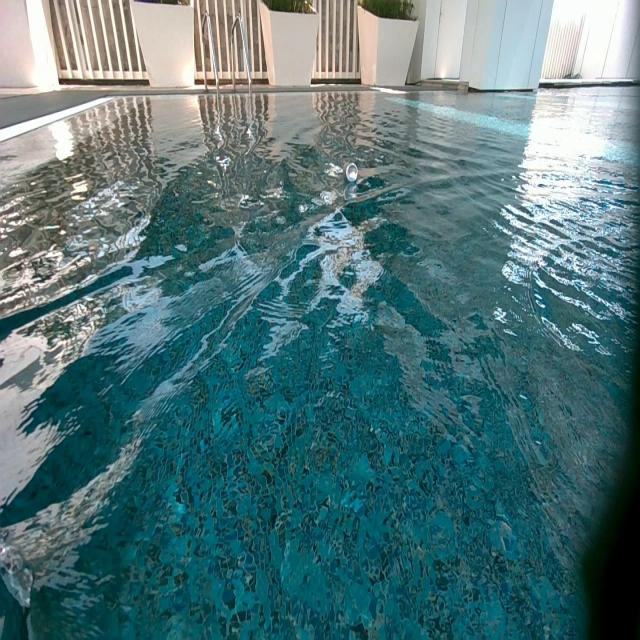Cans: (346, 164, 358, 181)
